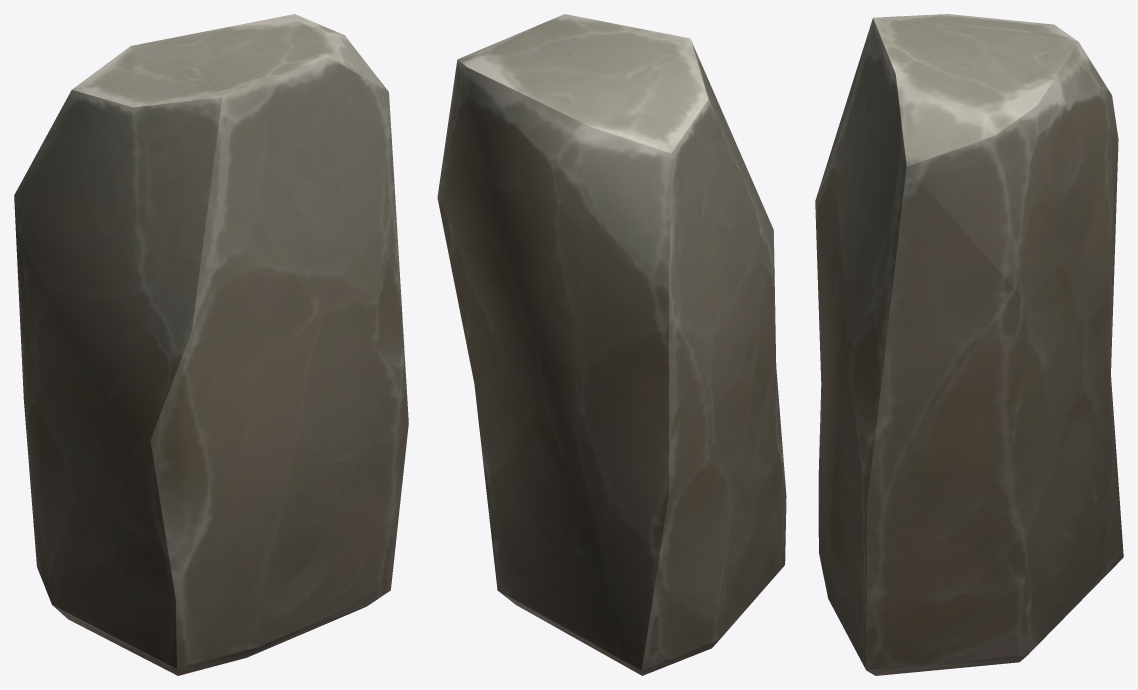
The model's file is ROCK 2.fbx.
3 renders of one model, left to right at view 1: azimuth 30°, elevation 25°; view 2: azimuth 150°, elevation 25°; view 3: azimuth 270°, elevation 25°, orthographic. The views are drawn at different scales.
Visible parts, largest first — view 1: SM_Rocks_09; view 2: SM_Rocks_09; view 3: SM_Rocks_09.
Boxes of the visible parts, left/top/right/bottom form: SM_Rocks_09: left=14, top=14, right=408, bottom=675; SM_Rocks_09: left=437, top=14, right=786, bottom=675; SM_Rocks_09: left=815, top=14, right=1123, bottom=675.
Size of the model in its own units: 87.9 by 159 by 74.41.
1 material, 1 textured.
